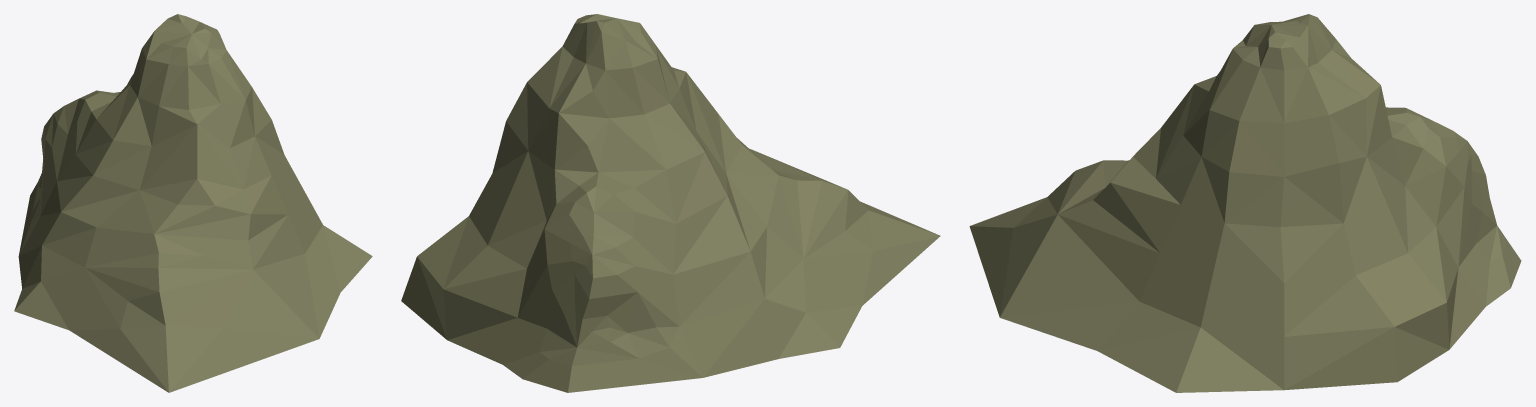
File: rock08.fbx
3 renders of one model, left to right at view 1: azimuth 30°, elevation 25°; view 2: azimuth 150°, elevation 25°; view 3: azimuth 270°, elevation 25°, orthographic. The views are drawn at different scales.
Parts seen in each view (by area): view 1: rock08; view 2: rock08; view 3: rock08.
Boxes of the visible parts, x1,y1,x2,y2 form: rock08: [14, 14, 372, 392]; rock08: [401, 14, 940, 392]; rock08: [969, 14, 1521, 392].
Size of the model in its own units: 0.2536 by 0.1816 by 0.3035.
